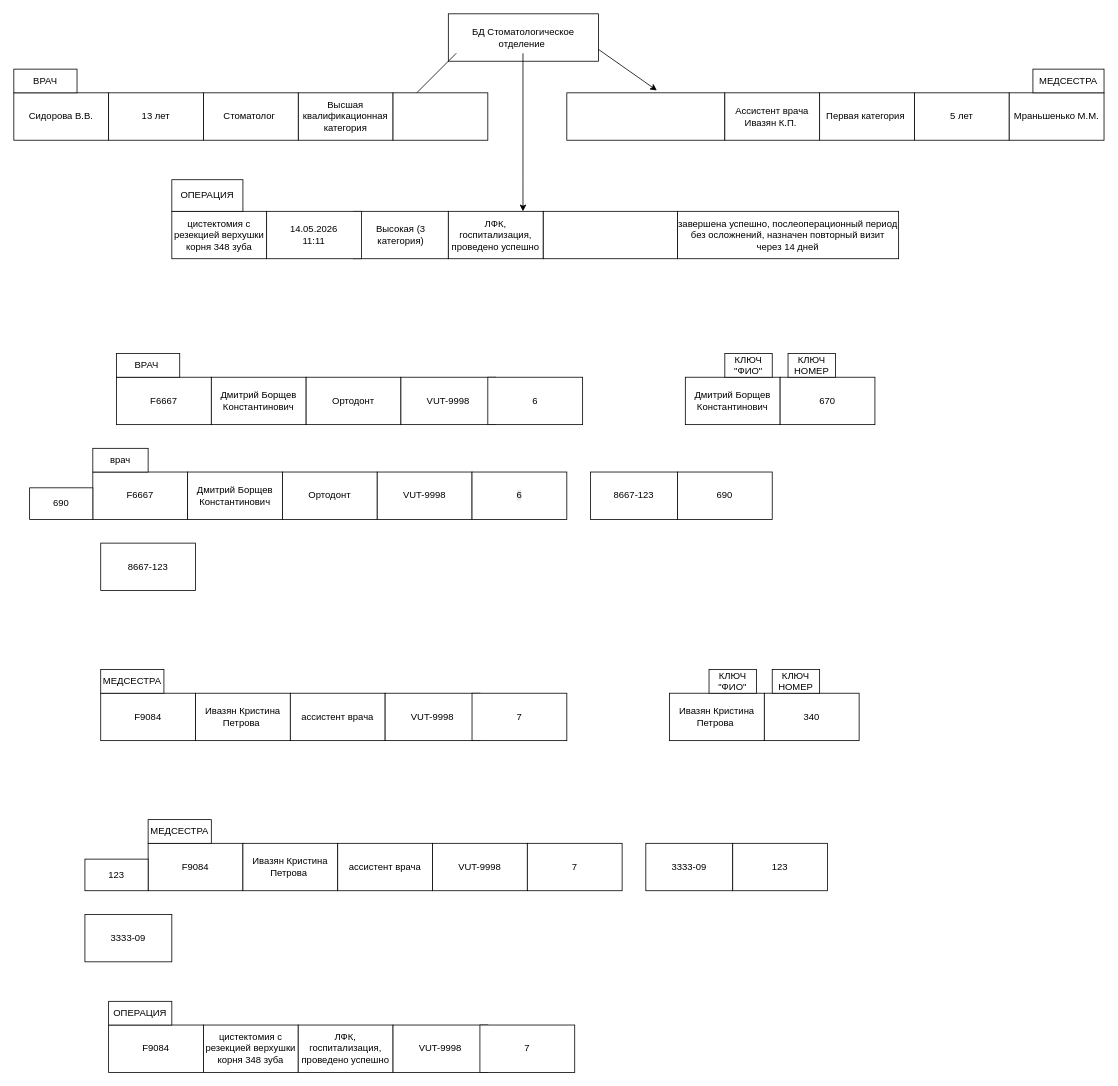
Image size: 1118x1086. Some labels were removed from this diagram. Each missing label, with the centre of its shape:
"Имеется доступ к работе с ортопантомографом, действителен до 06.2032" belongs at pixel 645 116.
"каб. №67" belongs at pixel 440 116.
"костно-пластичсескаий материал, шовный материал." belongs at pixel 609 235.
